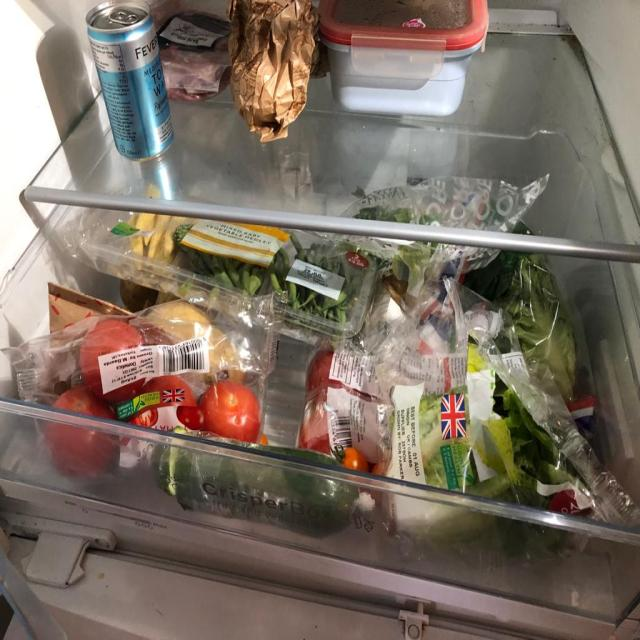Carne cerdo: (153, 0, 230, 98)
Lechuga/Endivia: (380, 396, 586, 575), (470, 240, 582, 402)
Tomate: (49, 388, 121, 474), (86, 316, 148, 394), (305, 399, 365, 475), (204, 377, 260, 442), (304, 348, 368, 400)
